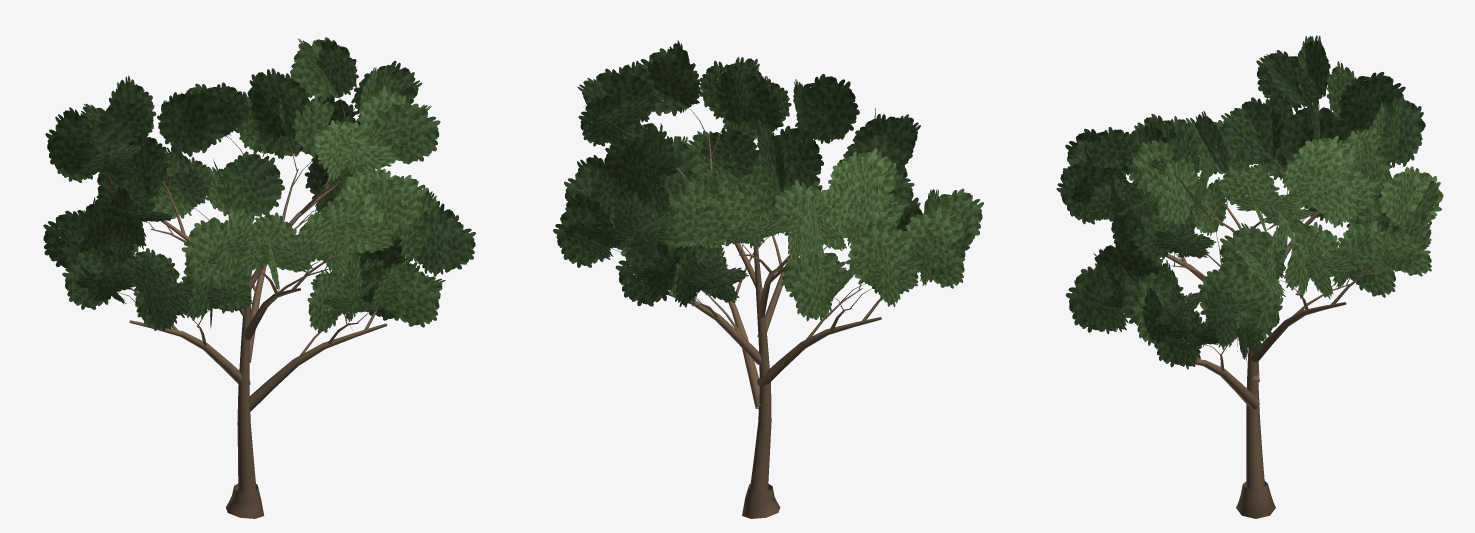
3 renders of one model, left to right at view 1: azimuth 30°, elevation 25°; view 2: azimuth 150°, elevation 25°; view 3: azimuth 270°, elevation 25°, orthographic.
Visible parts, largest first — view 1: Twig-attached foliage sprays, Connected tapered trunk and branches; view 2: Twig-attached foliage sprays, Connected tapered trunk and branches; view 3: Twig-attached foliage sprays, Connected tapered trunk and branches.
Boxes of the visible parts, x1,y1,x2,y2 form: Twig-attached foliage sprays: (43, 37, 475, 333); Connected tapered trunk and branches: (105, 98, 404, 518); Twig-attached foliage sprays: (553, 40, 983, 321); Connected tapered trunk and branches: (611, 108, 883, 518); Twig-attached foliage sprays: (1056, 35, 1443, 369); Connected tapered trunk and branches: (1165, 159, 1384, 518).
Size of the model in its own units: 9.92 by 10.07 by 8.75.
